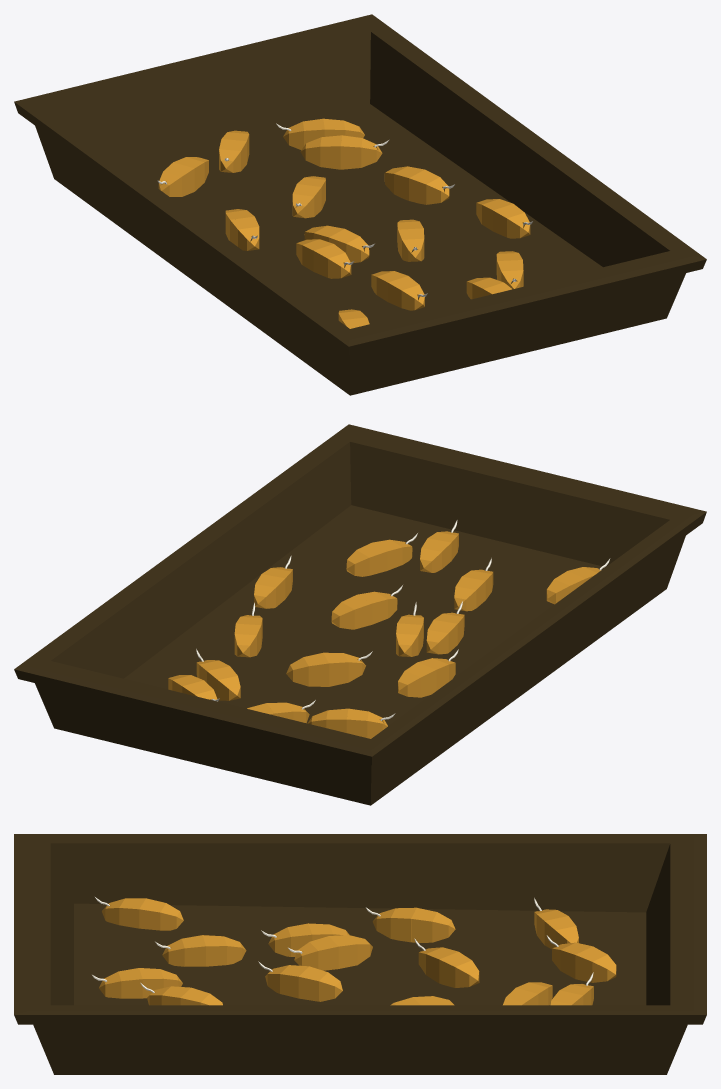
The model's file is Seed Pot.glb.
3 views of the same model, one above another, from view 1: azimuth 30°, elevation 25°; view 2: azimuth 150°, elevation 25°; view 3: azimuth 270°, elevation 25° (orthographic). The views are drawn at different scales.
Visible parts, largest first — view 1: Cube, Seed Tonkhla.005, Seed Tonkhla.008, Seed Tonkhla.010, Seed Tonkhla.012, Seed Tonkhla.001, Seed Tonkhla.004, Seed Tonkhla.014, Seed Tonkhla.009, Seed Tonkhla.006, Seed Tonkhla.007, Seed Tonkhla.013 (+3 smaller); view 2: Cube, Seed Tonkhla.006, Seed Tonkhla.003, Seed Tonkhla.002, Seed Tonkhla.007, Seed Tonkhla.004, Seed Tonkhla.012, Seed Tonkhla.010, Seed Tonkhla.001, Seed Tonkhla.005, Seed Tonkhla.011, Seed Tonkhla.008 (+4 smaller); view 3: Cube, Seed Tonkhla.007, Seed Tonkhla.001, Seed Tonkhla.003, Seed Tonkhla.009, Seed Tonkhla, Seed Tonkhla.013, Seed Tonkhla.006, Seed Tonkhla.011, Seed Tonkhla.010, Seed Tonkhla.004, Seed Tonkhla.002 (+3 smaller).
Boxes of the visible parts, <box> form: Cube: <box>14,14,706,395</box>; Seed Tonkhla.005: <box>300,135,389,169</box>; Seed Tonkhla.008: <box>384,166,454,204</box>; Seed Tonkhla.010: <box>296,239,354,278</box>; Seed Tonkhla.012: <box>476,199,532,238</box>; Seed Tonkhla.001: <box>371,271,427,310</box>; Seed Tonkhla.004: <box>157,157,208,196</box>; Seed Tonkhla.014: <box>276,118,364,149</box>; Seed Tonkhla.009: <box>304,225,374,262</box>; Seed Tonkhla.006: <box>292,176,325,218</box>; Seed Tonkhla.007: <box>225,209,259,250</box>; Seed Tonkhla.013: <box>219,130,249,172</box>; Cube: <box>14,424,706,805</box>; Seed Tonkhla.006: <box>286,651,372,686</box>; Seed Tonkhla.003: <box>331,585,402,629</box>; Seed Tonkhla.002: <box>346,533,417,576</box>; Seed Tonkhla.007: <box>398,649,458,697</box>; Seed Tonkhla.004: <box>307,708,395,738</box>; Seed Tonkhla.012: <box>254,555,292,608</box>; Seed Tonkhla.010: <box>426,601,464,654</box>; Seed Tonkhla.001: <box>454,558,493,611</box>; Seed Tonkhla.005: <box>196,648,240,700</box>; Seed Tonkhla.011: <box>420,520,458,572</box>; Seed Tonkhla.008: <box>234,602,262,657</box>; Cube: <box>14,834,706,1074</box>; Seed Tonkhla.007: <box>365,907,455,942</box>; Seed Tonkhla.001: <box>155,935,246,966</box>; Seed Tonkhla.003: <box>258,961,342,1001</box>; Seed Tonkhla.009: <box>288,935,372,970</box>; Seed Tonkhla: <box>94,896,183,930</box>; Seed Tonkhla.013: <box>546,935,616,982</box>; Seed Tonkhla.006: <box>414,938,479,987</box>; Seed Tonkhla.011: <box>92,968,182,998</box>; Seed Tonkhla.010: <box>261,923,349,956</box>; Seed Tonkhla.004: <box>534,897,578,949</box>; Seed Tonkhla.002: <box>140,982,222,1005</box>.
Size of the model in its own units: 0.8073 by 0.1472 by 1.31.
